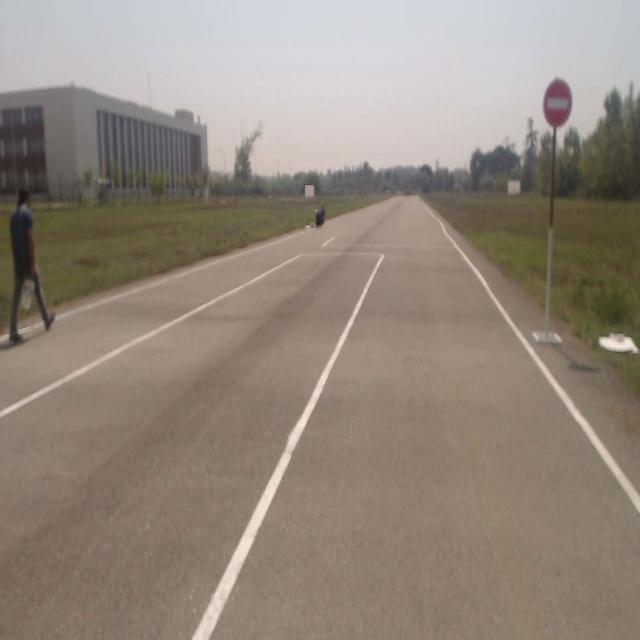girisyok: (543, 80, 572, 126)
